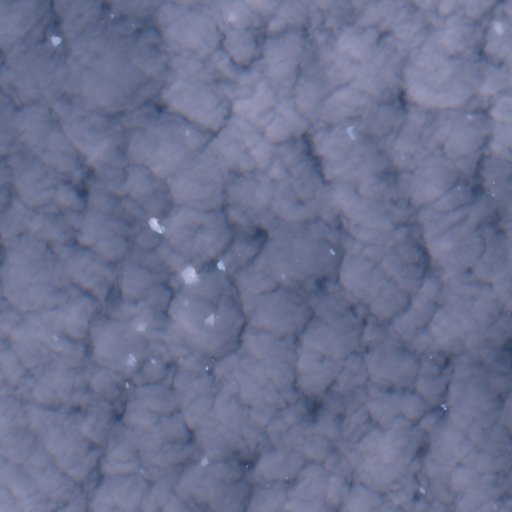Iceberg: (181, 266, 198, 283), (148, 217, 165, 233), (347, 126, 355, 140), (51, 36, 61, 46), (494, 23, 503, 34), (204, 313, 213, 324), (127, 354, 136, 365), (136, 322, 146, 331), (217, 260, 225, 270), (201, 456, 208, 465), (52, 334, 58, 341), (419, 487, 425, 494), (228, 14, 234, 20), (330, 248, 335, 254), (440, 404, 446, 409), (281, 273, 285, 279), (125, 382, 129, 387), (186, 129, 189, 135), (151, 359, 155, 363), (184, 300, 187, 305), (467, 115, 471, 118), (205, 366, 208, 370), (429, 355, 432, 358), (111, 14, 113, 17), (458, 186, 460, 189), (491, 194, 494, 196), (246, 465, 248, 467), (285, 477, 287, 479), (132, 24, 133, 26), (402, 156, 403, 158), (238, 254, 240, 255), (402, 152, 403, 153), (493, 182, 494, 183), (487, 192, 488, 193), (508, 313, 509, 314), (212, 359, 213, 360), (434, 367, 435, 368), (267, 485, 268, 486)
